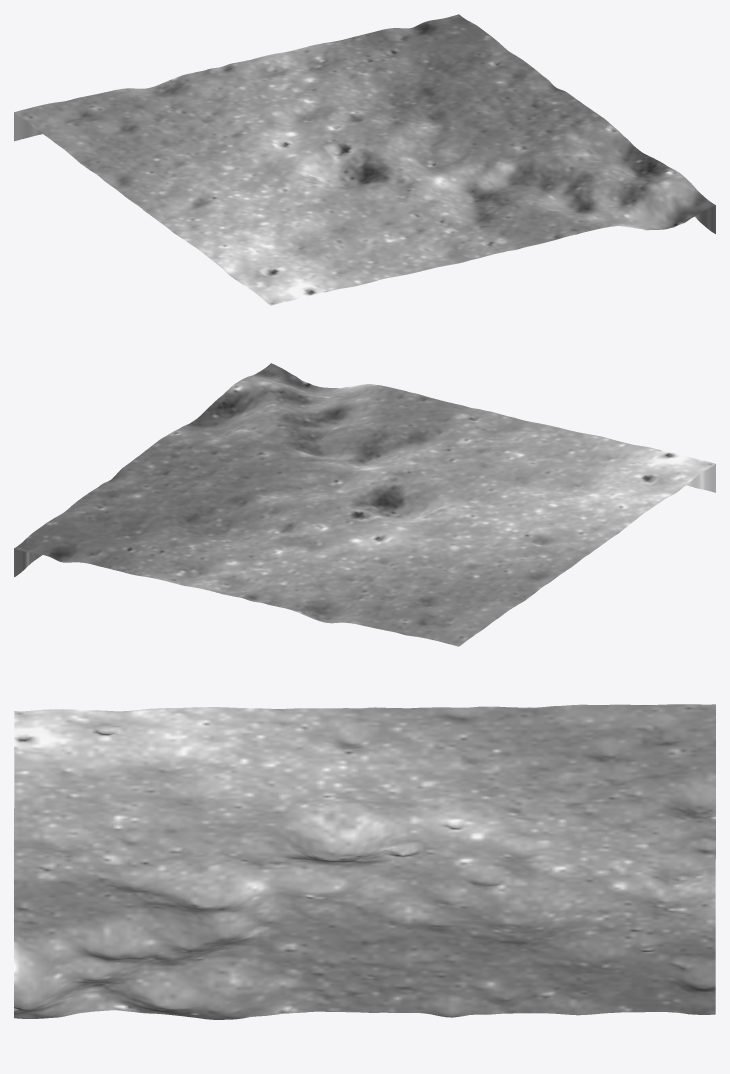
3 renders of one model, top to bottom at view 1: azimuth 30°, elevation 25°; view 2: azimuth 150°, elevation 25°; view 3: azimuth 270°, elevation 25°, orthographic. The views are drawn at different scales.
Bounding box in the file's own units: 1277 × 150 × 1279.
Materials: 1 (1 with a texture image).
